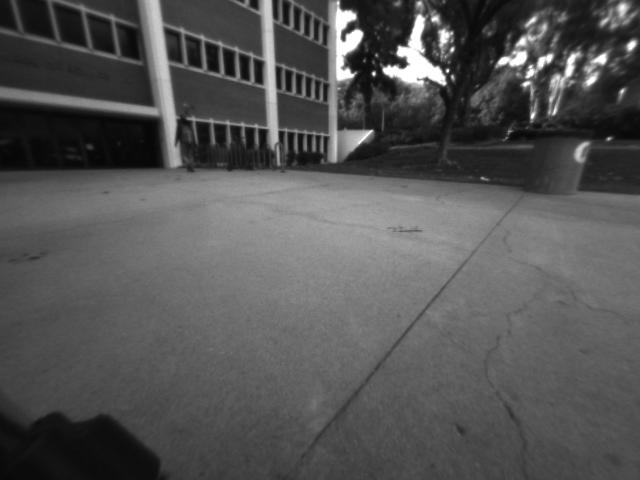trashcan: (523, 119, 597, 205)
